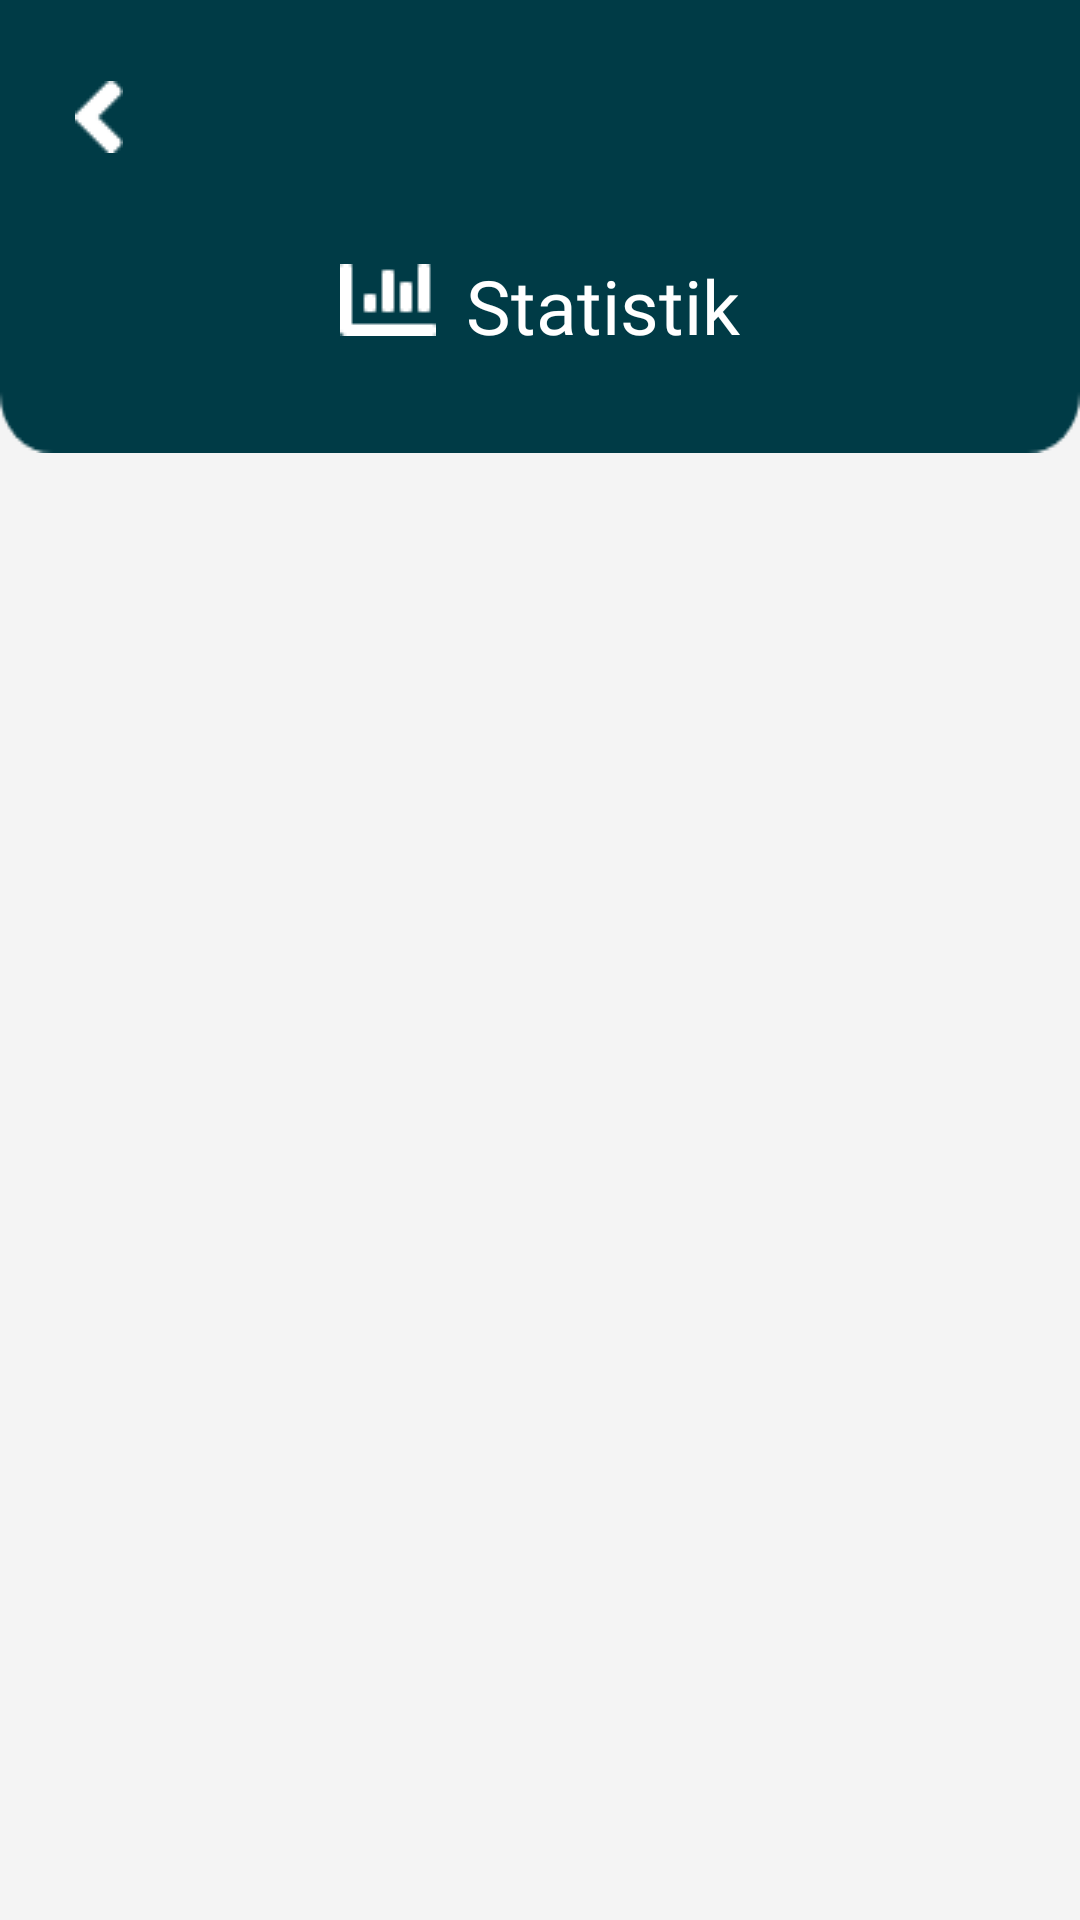

Locate icon controls on the screen. Image size 1080 x 1920, boxes as (x1, y1, x2, y2).
btnleft: (75, 81, 123, 153)
chart bar: (340, 264, 436, 336)
